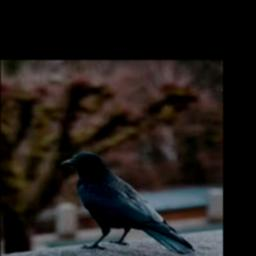Crow: (61, 151, 197, 254)
